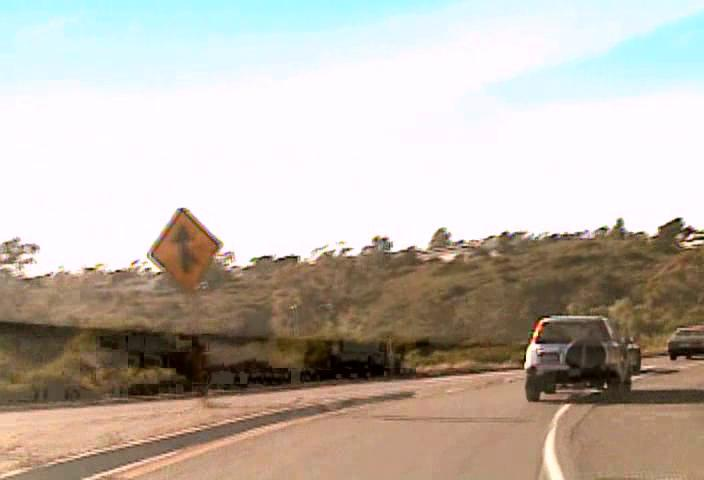merge: (146, 207, 222, 291)
